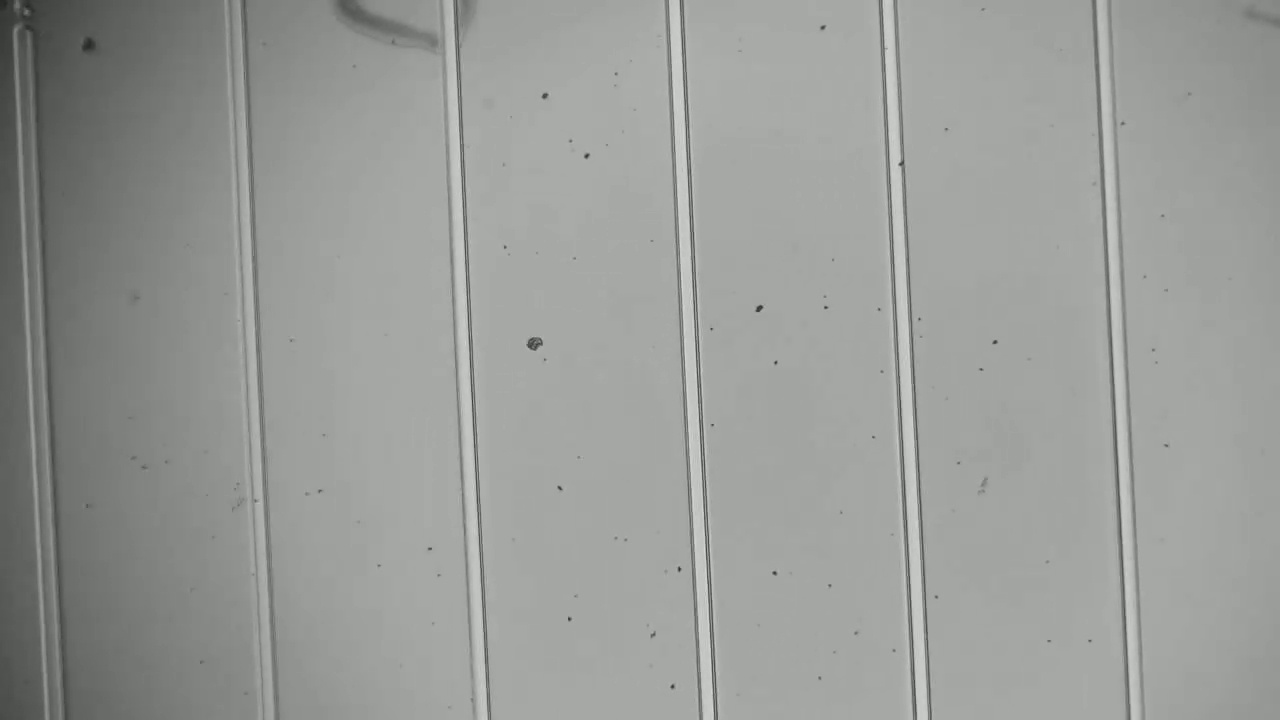open: (0, 1, 53, 63)
